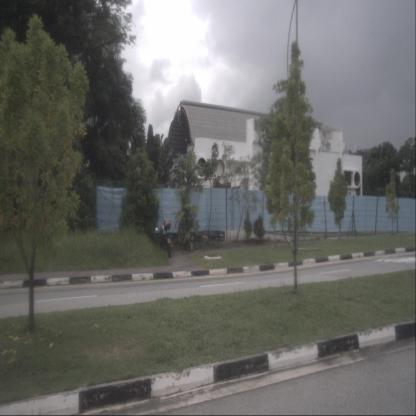vehicle-motorcycle: (155, 220, 173, 257)
